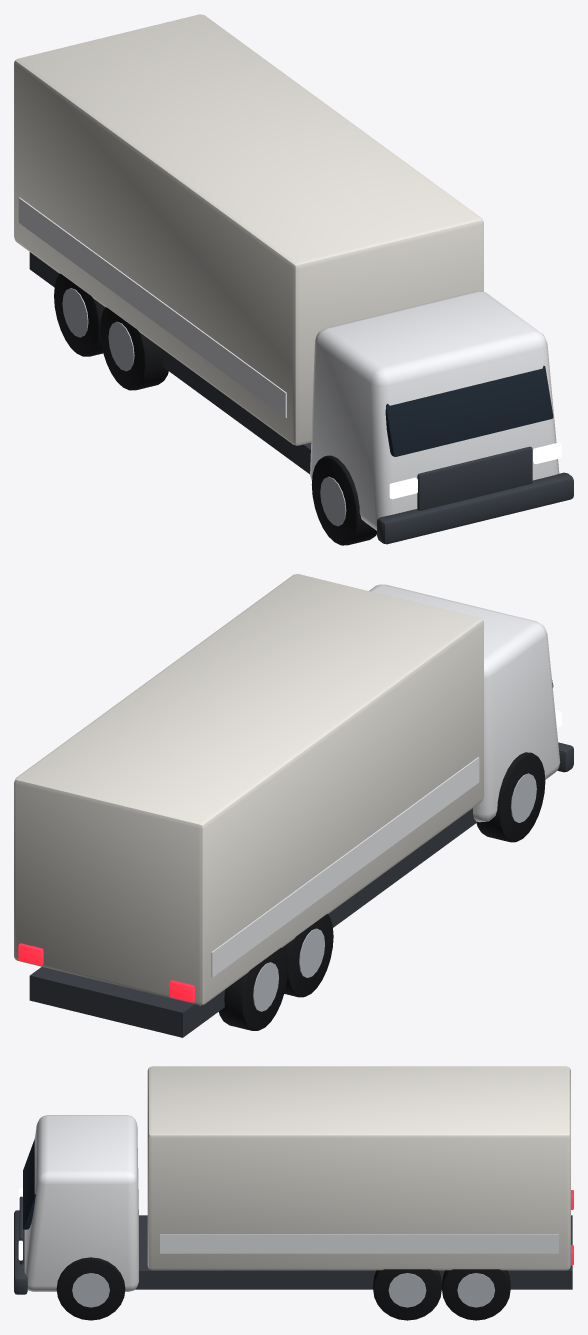
Rendered from trafficBoxtruck.beb356f9.glb.
3 views of the same model, one above another, from view 1: azimuth 30°, elevation 25°; view 2: azimuth 150°, elevation 25°; view 3: azimuth 270°, elevation 25° (orthographic). The views are drawn at different scales.
Visible parts, largest first — view 1: boxtruck; view 2: boxtruck; view 3: boxtruck.
Boxes of the visible parts, <box> form: boxtruck: <box>14,14,573,545</box>; boxtruck: <box>14,574,573,1037</box>; boxtruck: <box>14,1066,573,1320</box>.
Size of the model in its own units: 2.43 by 3 by 8.14.
